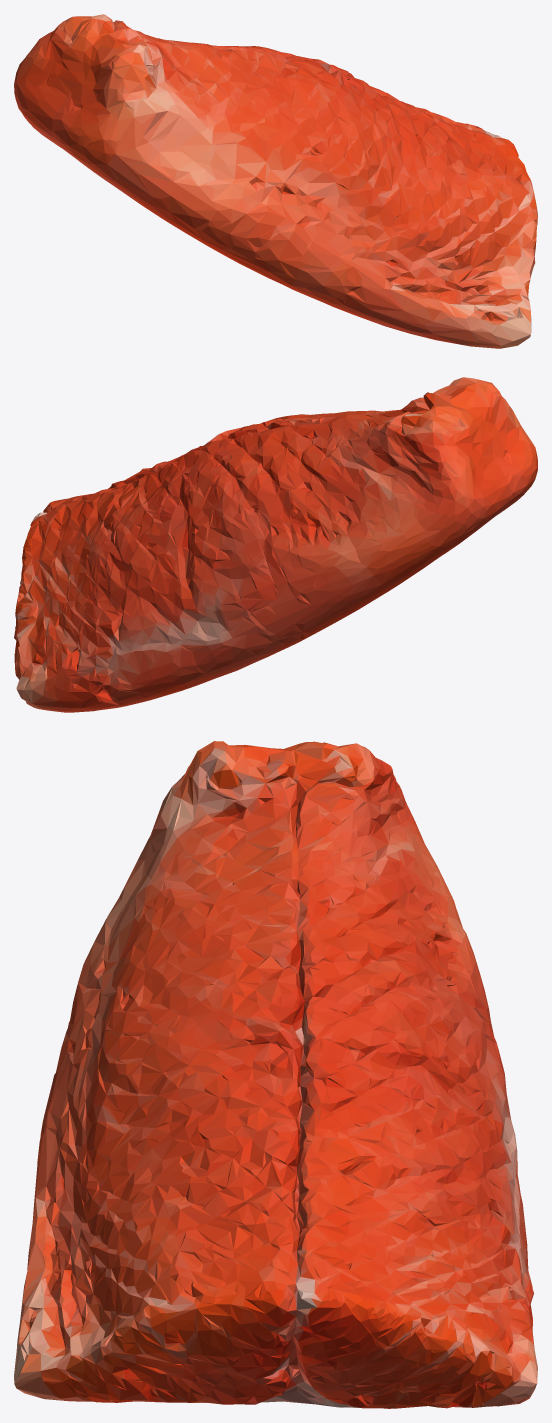
File: salmon.glb
The picture shows the model from 3 angles, top to bottom: view 1: azimuth 30°, elevation 25°; view 2: azimuth 150°, elevation 25°; view 3: azimuth 270°, elevation 25°; orthographic projection. The views are drawn at different scales.
Visible parts, largest first — view 1: geometry_0; view 2: geometry_0; view 3: geometry_0.
Boxes of the visible parts, left/top/right/bottom form: geometry_0: left=14, top=14, right=537, bottom=348; geometry_0: left=14, top=377, right=537, bottom=712; geometry_0: left=14, top=741, right=537, bottom=1408.
Bounding box in the file's own units: 0.16 × 0.1088 × 0.1144.
Materials: 1 (1 with a texture image).
